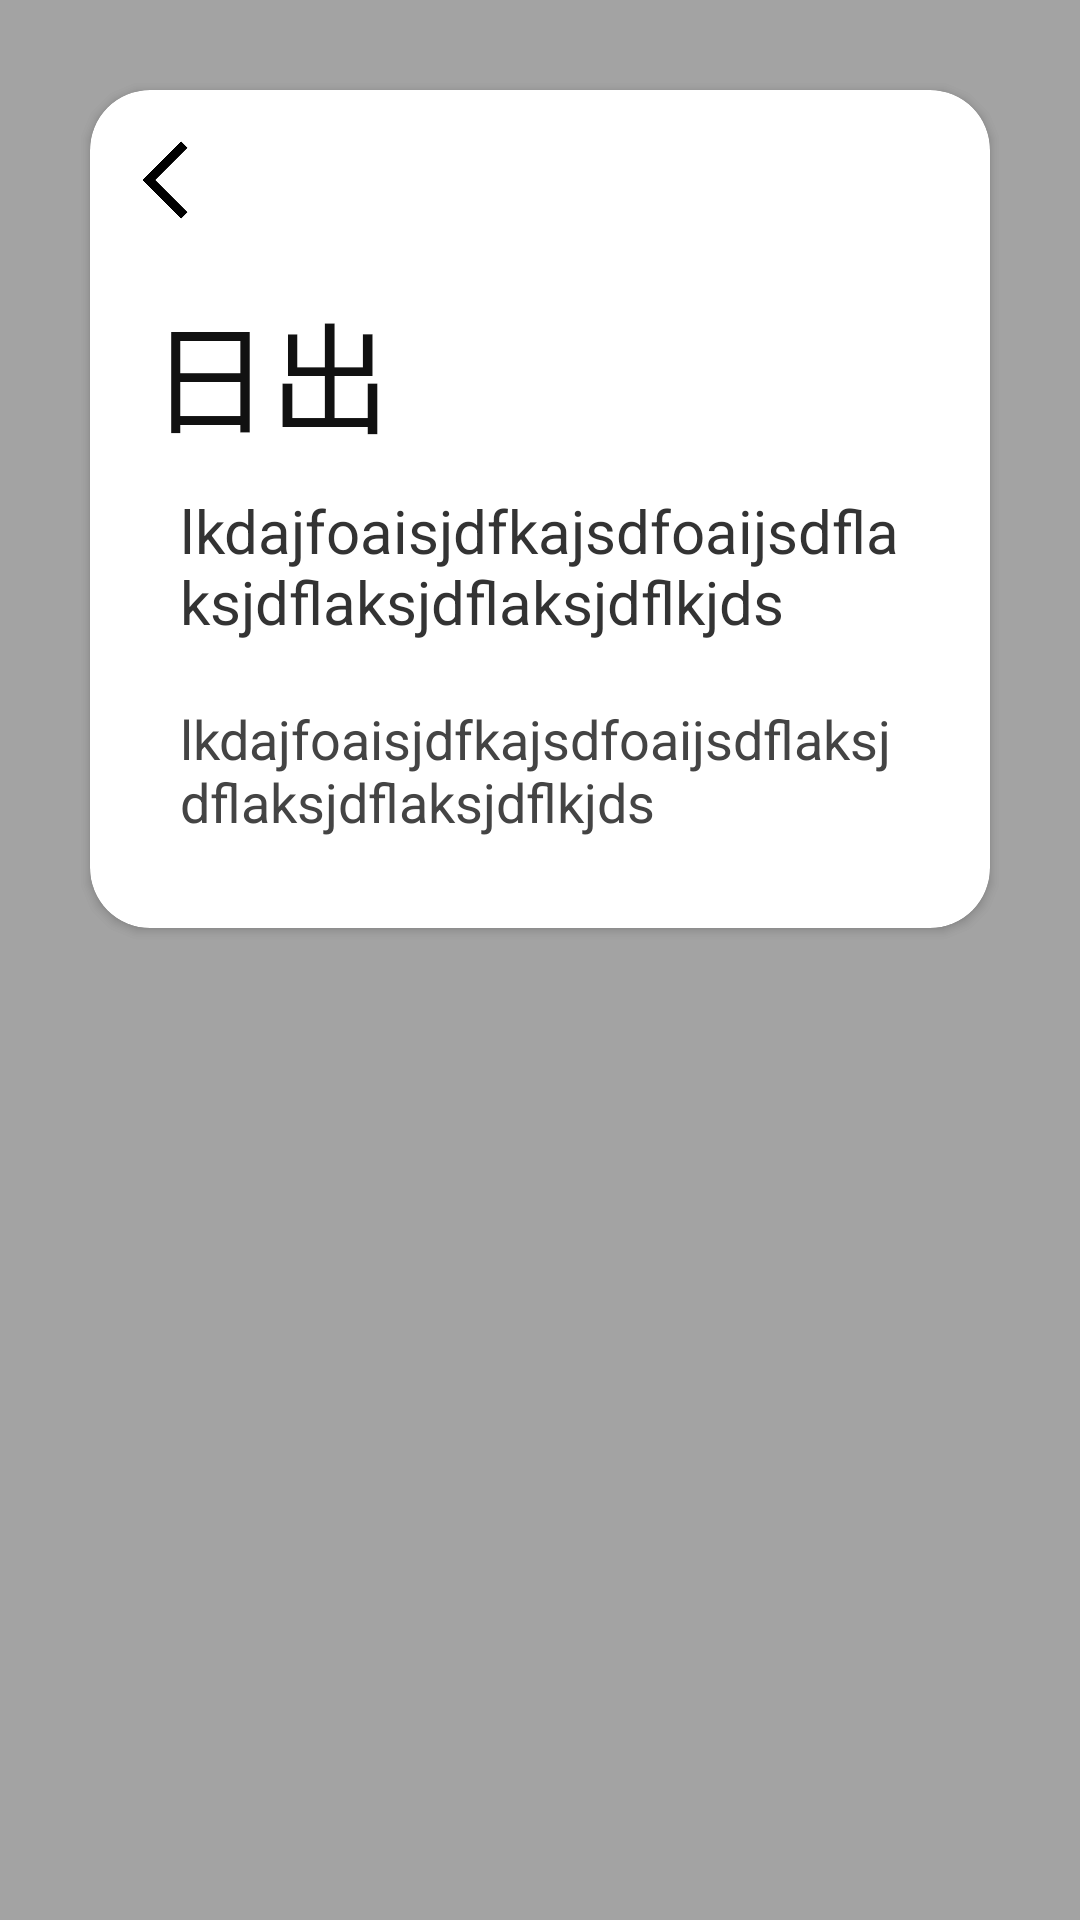

Where to tap for icons on this 1080 x 1920 app screen, as (x=x, y=y):
back: (x=165, y=180)
